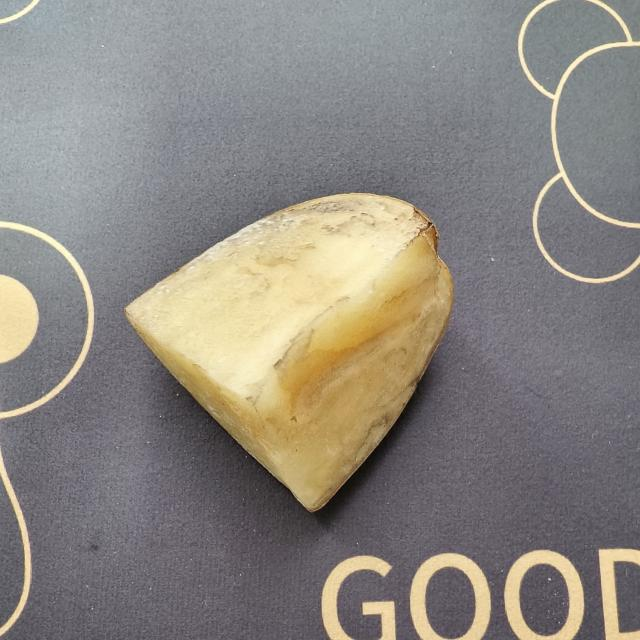-Kitchen waste - potato-: (119, 184, 457, 516)
